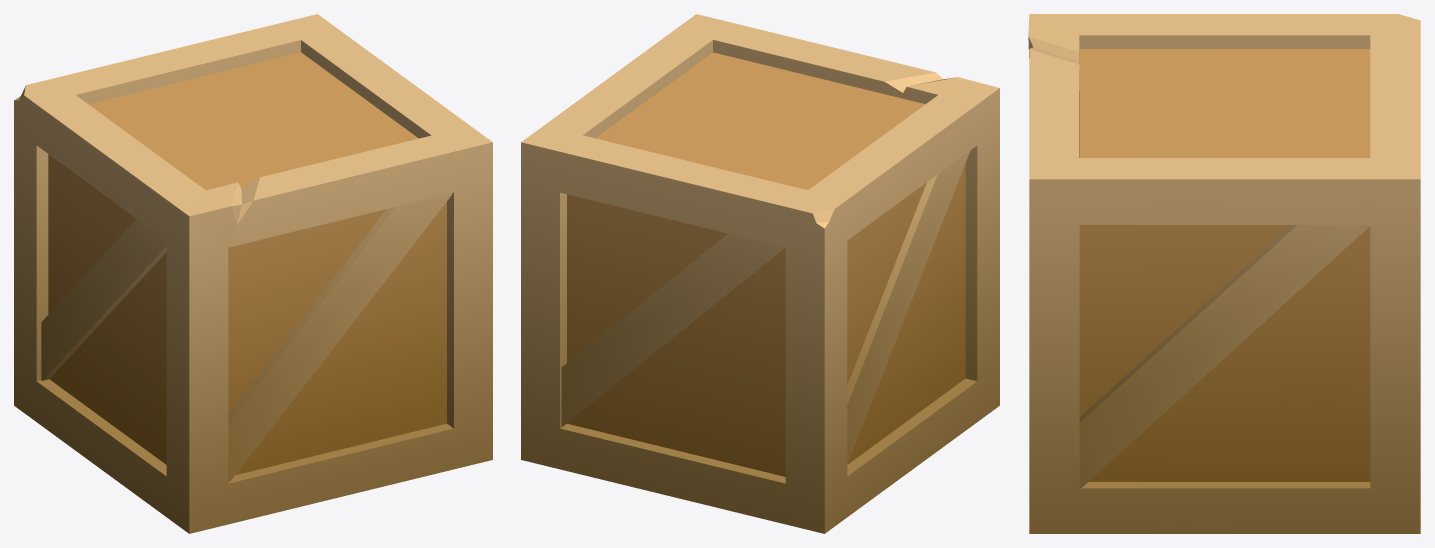
The model's file is Crate_A.fbx.
The picture shows the model from 3 angles, left to right: view 1: azimuth 30°, elevation 25°; view 2: azimuth 150°, elevation 25°; view 3: azimuth 270°, elevation 25°; orthographic projection. The views are drawn at different scales.
Visible parts, largest first — view 1: Crate_A; view 2: Crate_A; view 3: Crate_A.
Part boxes in pixels (box(x1,y1,x2,y2)): Crate_A: box(14, 14, 492, 533); Crate_A: box(521, 14, 999, 533); Crate_A: box(1028, 14, 1420, 533).
Size of the model in its own units: 100 by 100 by 100.
1 material, 1 textured.
